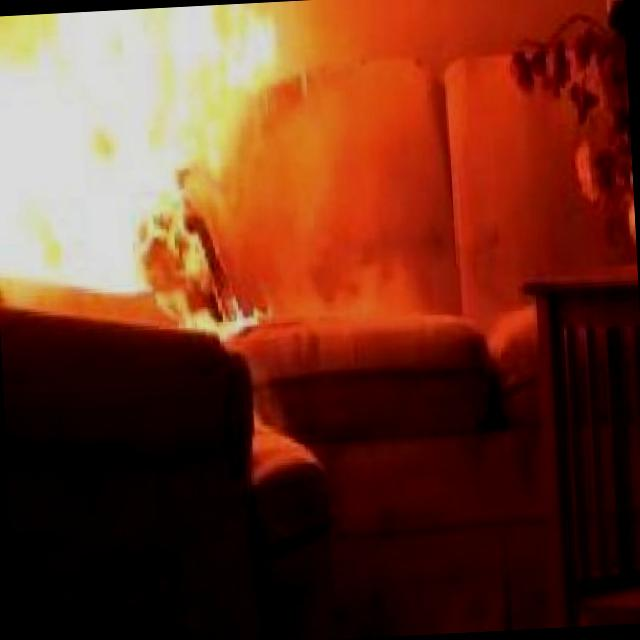fire: (0, 1, 322, 349)
